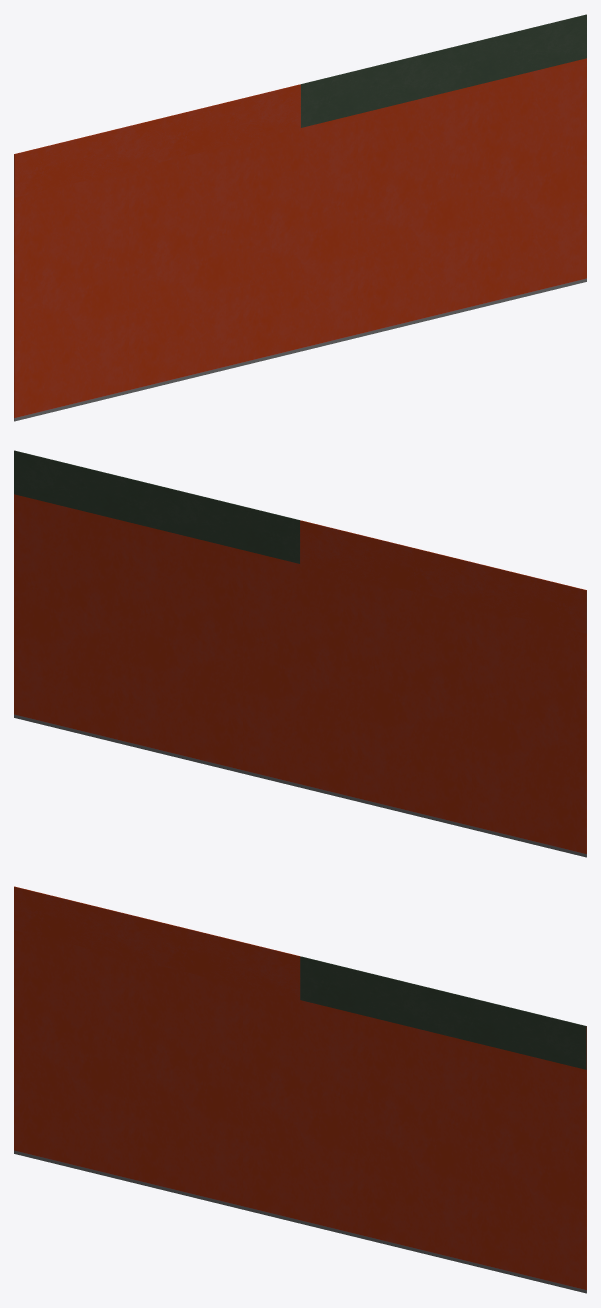
File: kitchenwall_2.fbx
3 renders of one model, top to bottom at view 1: azimuth 30°, elevation 25°; view 2: azimuth 150°, elevation 25°; view 3: azimuth 330°, elevation 25°, orthographic.
Visible parts, largest first — view 1: polySurface219; view 2: polySurface219; view 3: polySurface219.
Boxes of the visible parts, bbox=[...] form: polySurface219: bbox=[14, 14, 586, 421]; polySurface219: bbox=[14, 450, 586, 857]; polySurface219: bbox=[14, 886, 586, 1293].
Bounding box in the file's own units: 5.78 × 2.58 × 0.007.
